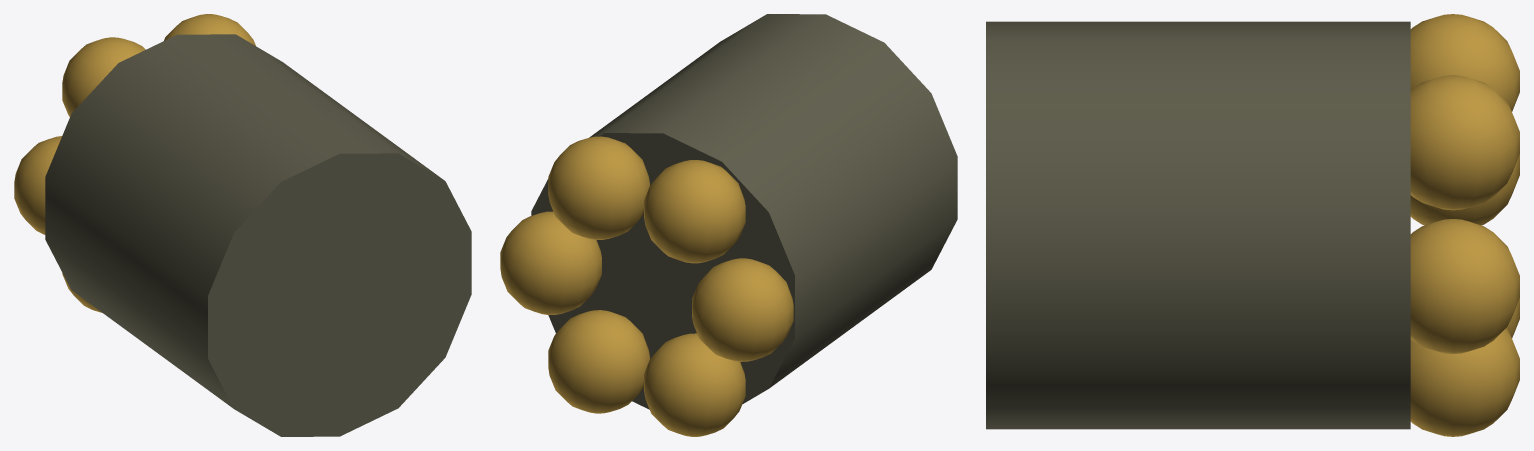
The model's file is cluster.glb.
The picture shows the model from 3 angles, left to right: view 1: azimuth 30°, elevation 25°; view 2: azimuth 150°, elevation 25°; view 3: azimuth 270°, elevation 25°; orthographic projection. The views are drawn at different scales.
Visible parts, largest first — view 1: _MeshInstance3D_79, _MeshInstance3D_82, _MeshInstance3D_83, _MeshInstance3D_81; view 2: _MeshInstance3D_79, _MeshInstance3D_82, _MeshInstance3D_83, _MeshInstance3D_85, _MeshInstance3D_81, _MeshInstance3D_80, _MeshInstance3D_84; view 3: _MeshInstance3D_79, _MeshInstance3D_81, _MeshInstance3D_80, _MeshInstance3D_85, _MeshInstance3D_82, _MeshInstance3D_83.
Boxes of the visible parts, box(x1,y1,x2,y2) form: _MeshInstance3D_79: box(45, 34, 471, 436); _MeshInstance3D_82: box(62, 37, 145, 116); _MeshInstance3D_83: box(14, 136, 61, 234); _MeshInstance3D_81: box(164, 14, 255, 45); _MeshInstance3D_79: box(531, 14, 957, 409); _MeshInstance3D_82: box(644, 160, 745, 263); _MeshInstance3D_83: box(692, 258, 793, 361); _MeshInstance3D_85: box(548, 310, 649, 413); _MeshInstance3D_81: box(548, 136, 649, 239); _MeshInstance3D_80: box(500, 211, 601, 314); _MeshInstance3D_84: box(644, 333, 745, 436); _MeshInstance3D_79: box(986, 21, 1410, 429); _MeshInstance3D_81: box(1410, 75, 1519, 210); _MeshInstance3D_80: box(1410, 219, 1519, 353); _MeshInstance3D_85: box(1410, 328, 1519, 436); _MeshInstance3D_82: box(1410, 14, 1519, 111); _MeshInstance3D_83: box(1410, 154, 1519, 225).
Bounding box in the file's own units: 0.4976 × 0.48 × 0.6288.
